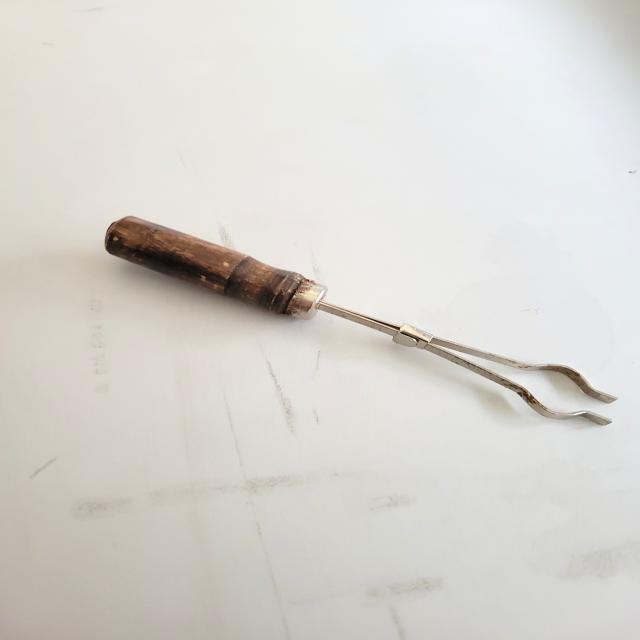TestTube_Holder: (76, 194, 627, 456)
